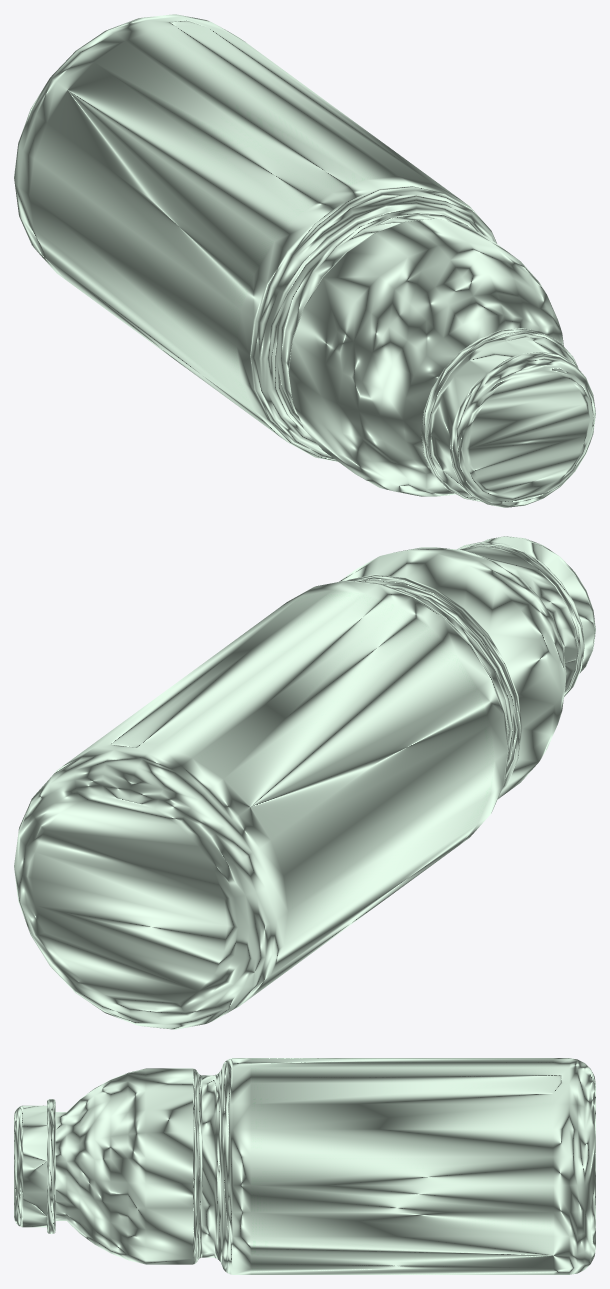
Rendered from model_align.obj.
3 views of the same model, one above another, from view 1: azimuth 30°, elevation 25°; view 2: azimuth 150°, elevation 25°; view 3: azimuth 270°, elevation 25° (orthographic). The views are drawn at different scales.
Size of the model in its own units: 0.09 by 0.09 by 0.2406.
